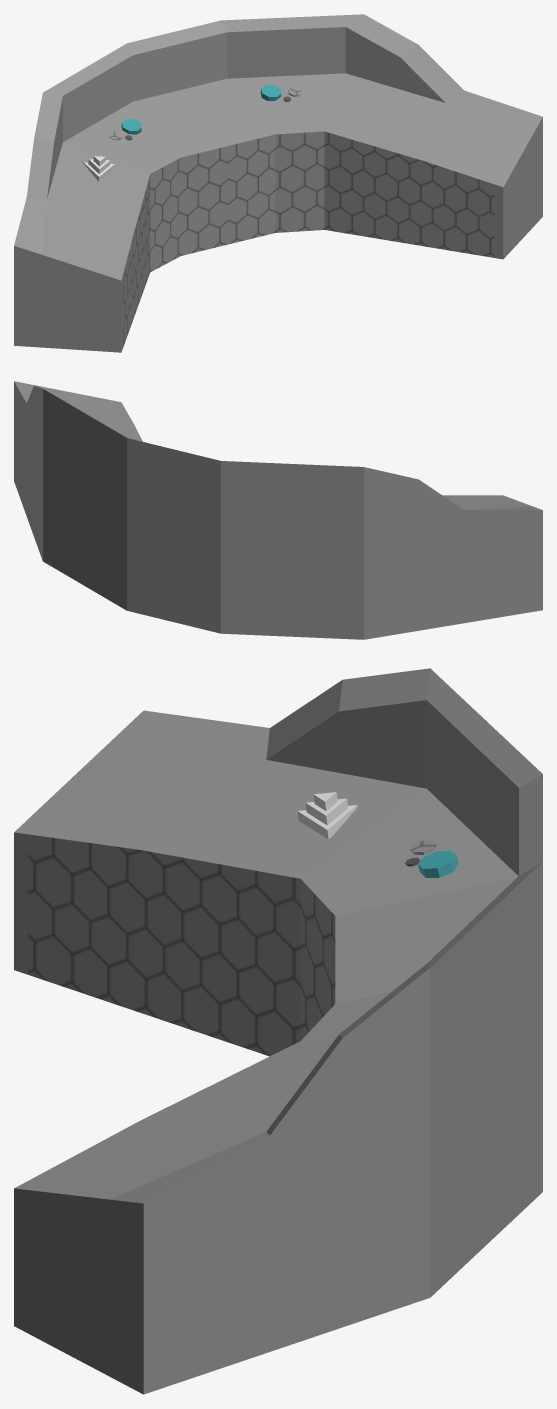
Rendered from DeckDesk.fbx.
3 renders of one model, top to bottom at view 1: azimuth 30°, elevation 25°; view 2: azimuth 150°, elevation 25°; view 3: azimuth 270°, elevation 25°, orthographic. The views are drawn at different scales.
Parts seen in each view (by area): view 1: Cube.004, Cube.014, Pyramid; view 2: Cube.004; view 3: Cube.004, Pyramid, Cube.014.
Boxes of the visible parts, x1=… form: Cube.004: x1=14, y1=14, x2=542, y2=352; Cube.014: x1=108, y1=85, x2=301, y2=140; Pyramid: x1=83, y1=156, x2=114, y2=181; Cube.004: x1=14, y1=381, x2=542, y2=639; Cube.004: x1=14, y1=668, x2=542, y2=1394; Pyramid: x1=297, y1=792, x2=357, y2=839; Cube.014: x1=405, y1=840, x2=458, y2=877.
Bounding box in the file's own units: 3713 × 1159 × 1683.
